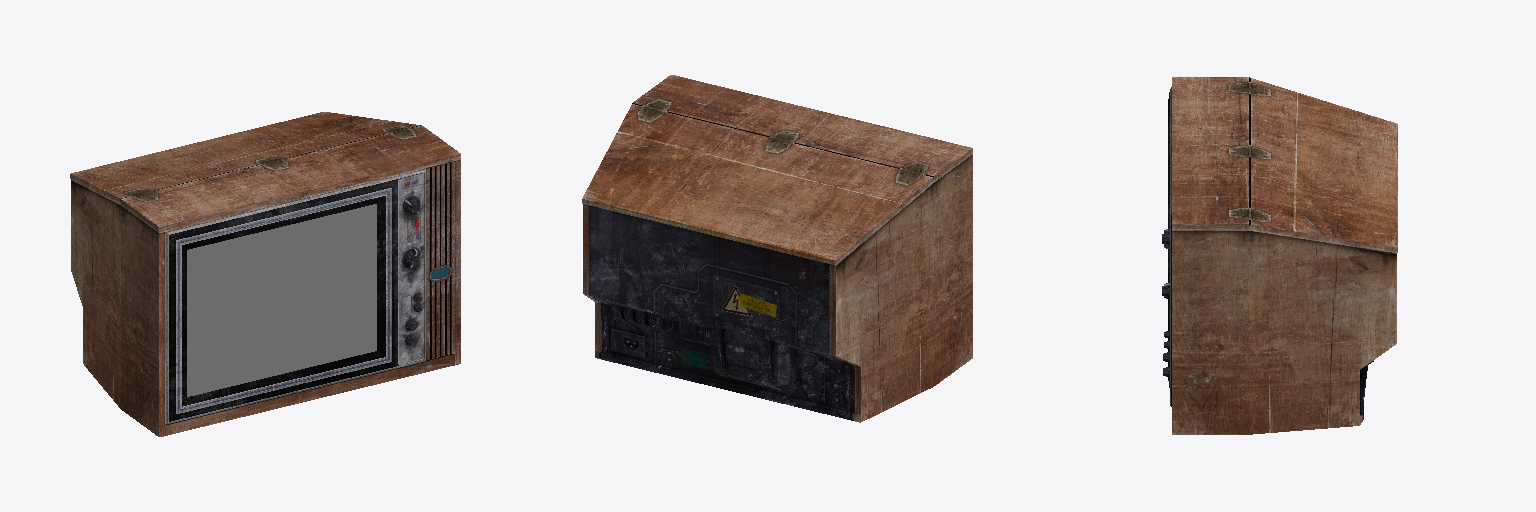
The picture shows the model from 3 angles: view 1: azimuth 30°, elevation 25°; view 2: azimuth 150°, elevation 25°; view 3: azimuth 270°, elevation 25°; orthographic projection.
Parts seen in each view (by area): view 1: OBJ_TV_LargeCRT_Asylum; view 2: OBJ_TV_LargeCRT_Asylum; view 3: OBJ_TV_LargeCRT_Asylum.
Part boxes in pixels (x1,y1,x2,y2): OBJ_TV_LargeCRT_Asylum: (70, 112, 460, 436); OBJ_TV_LargeCRT_Asylum: (582, 75, 972, 422); OBJ_TV_LargeCRT_Asylum: (1162, 77, 1397, 434).
Bounding box in the file's own units: 192 × 128 × 131.
Materials: 2 (1 with a texture image).